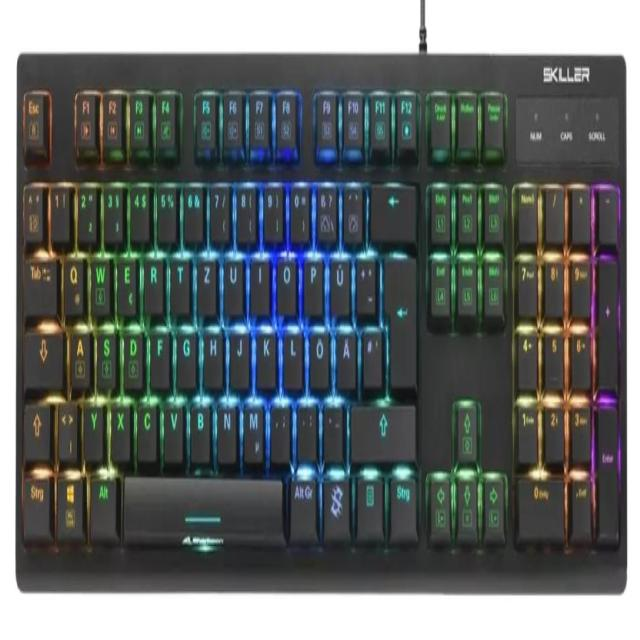0: (288, 177, 309, 239)
1: (48, 178, 69, 241)
2: (75, 177, 96, 243)
3: (101, 177, 123, 243)
4: (128, 178, 150, 241)
5: (155, 178, 176, 242)
6: (181, 178, 203, 242)
7: (208, 178, 229, 241)
8: (234, 178, 255, 242)
9: (260, 177, 282, 238)
a: (69, 319, 89, 383)
accent: (341, 176, 362, 242)
ae: (334, 323, 354, 387)
alt-left: (87, 467, 116, 536)
altgr-right: (288, 470, 316, 535)
b: (188, 394, 209, 458)
c: (135, 394, 156, 457)
caret: (21, 176, 42, 239)
comma: (269, 396, 289, 459)
d: (121, 323, 141, 386)
del: (369, 176, 415, 238)
e: (115, 249, 135, 312)
enter: (381, 248, 416, 387)
f: (148, 323, 168, 386)
g: (174, 323, 195, 385)
h: (201, 323, 221, 385)
hash: (360, 322, 380, 386)
i: (248, 250, 268, 309)
j: (227, 324, 248, 386)
k: (254, 324, 275, 384)
keyboard: (8, 44, 632, 598)
l: (280, 323, 301, 386)
less: (56, 394, 76, 458)
m: (241, 397, 262, 461)
minus: (320, 395, 341, 457)
n: (215, 397, 235, 461)
o: (274, 251, 295, 310)
oe: (307, 324, 328, 386)
p: (301, 249, 322, 312)
plus: (354, 247, 375, 313)
point: (295, 396, 315, 457)
q: (61, 249, 82, 313)
r: (142, 249, 162, 311)
s: (94, 321, 114, 384)
shift-left: (21, 396, 49, 457)
shift-lock: (22, 323, 62, 386)
shift-right: (349, 397, 415, 457)
space: (119, 468, 283, 538)
ss: (314, 178, 336, 241)
strg-left: (20, 465, 50, 535)
strg-right: (387, 466, 416, 538)
t: (168, 249, 189, 312)
tab: (22, 248, 56, 311)
u: (221, 250, 242, 312)
ue: (327, 250, 349, 313)
v: (162, 395, 182, 458)
w: (88, 249, 109, 311)
x: (108, 395, 129, 457)
y: (82, 395, 102, 458)
z: (194, 251, 215, 312)
